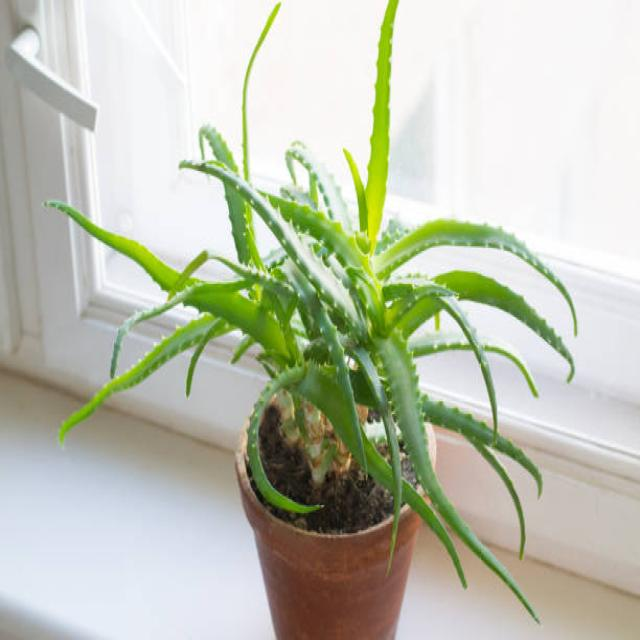AloeVera: (100, 71, 582, 606)
